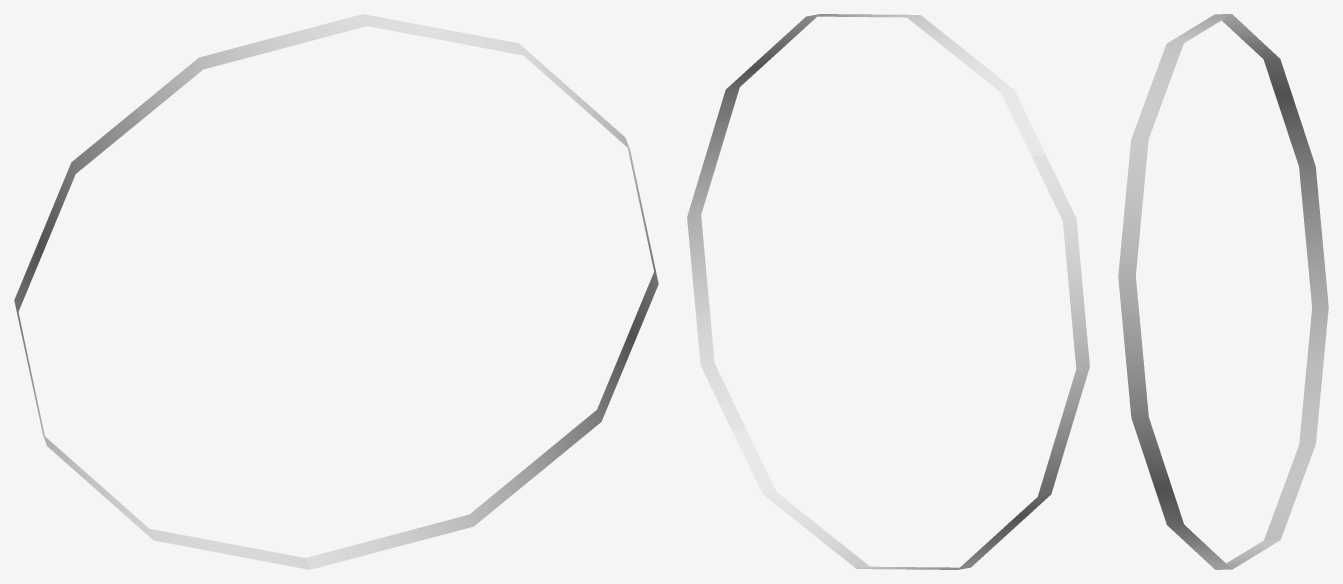
The model's file is luminairearm_vannuystriple_c14.obj.
3 views of the same model, side by side, from view 1: azimuth 30°, elevation 25°; view 2: azimuth 150°, elevation 25°; view 3: azimuth 270°, elevation 25° (orthographic). The views are drawn at different scales.
Parts seen in each view (by area): view 1: luminairearm_vannuystriple_c14; view 2: luminairearm_vannuystriple_c14; view 3: luminairearm_vannuystriple_c14.
Boxes of the visible parts, x1,y1,x2,y2 form: luminairearm_vannuystriple_c14: (14,14,658,569); luminairearm_vannuystriple_c14: (687,14,1089,569); luminairearm_vannuystriple_c14: (1118,14,1328,569).
Bounding box in the file's own units: 0.1652 × 0.17 × 0.065.
